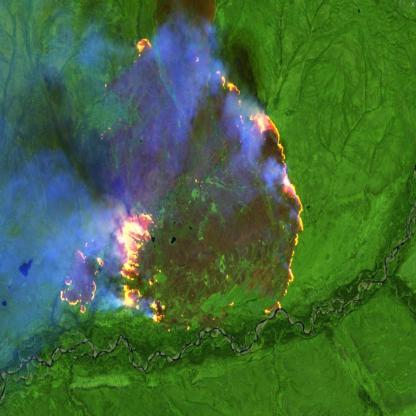fire: (57, 33, 308, 339)
